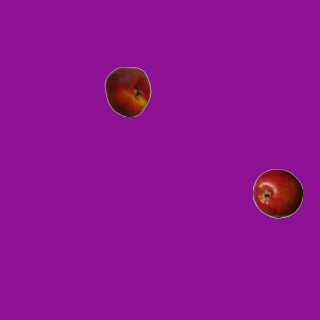Apple Braeburn: (252, 168, 302, 218)
Nectarine Flat: (102, 66, 152, 116)
